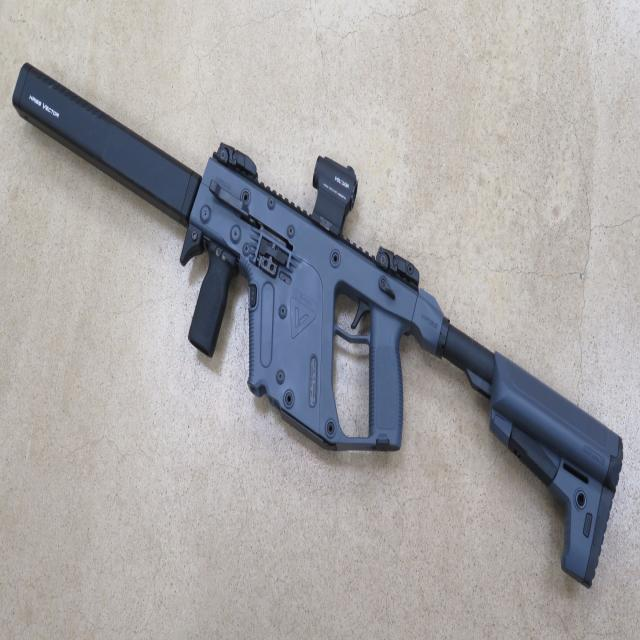SMG: (11, 63, 624, 588)
